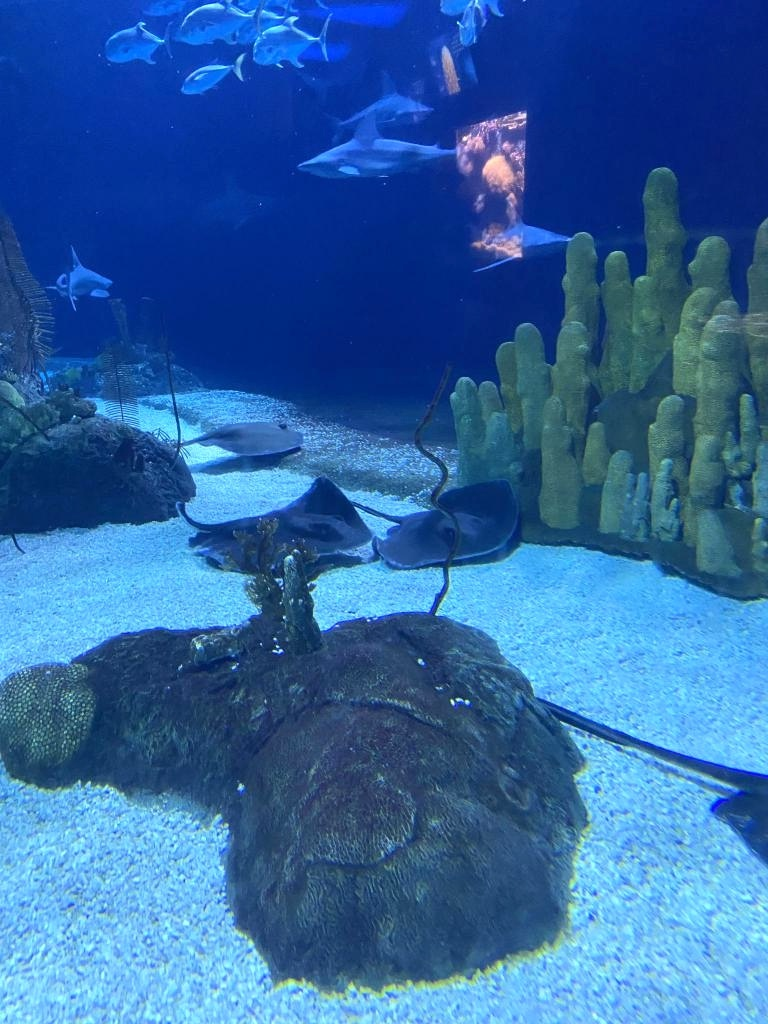fish: (247, 24, 332, 68), (229, 9, 309, 51), (175, 10, 260, 48), (101, 28, 167, 66), (177, 64, 228, 96), (137, 0, 195, 26), (453, 9, 491, 47)
shark: (296, 122, 462, 184), (461, 216, 583, 268), (199, 186, 275, 230), (46, 260, 110, 310)
stingray: (190, 482, 372, 584), (377, 479, 528, 573), (697, 768, 768, 875), (199, 412, 307, 470)
